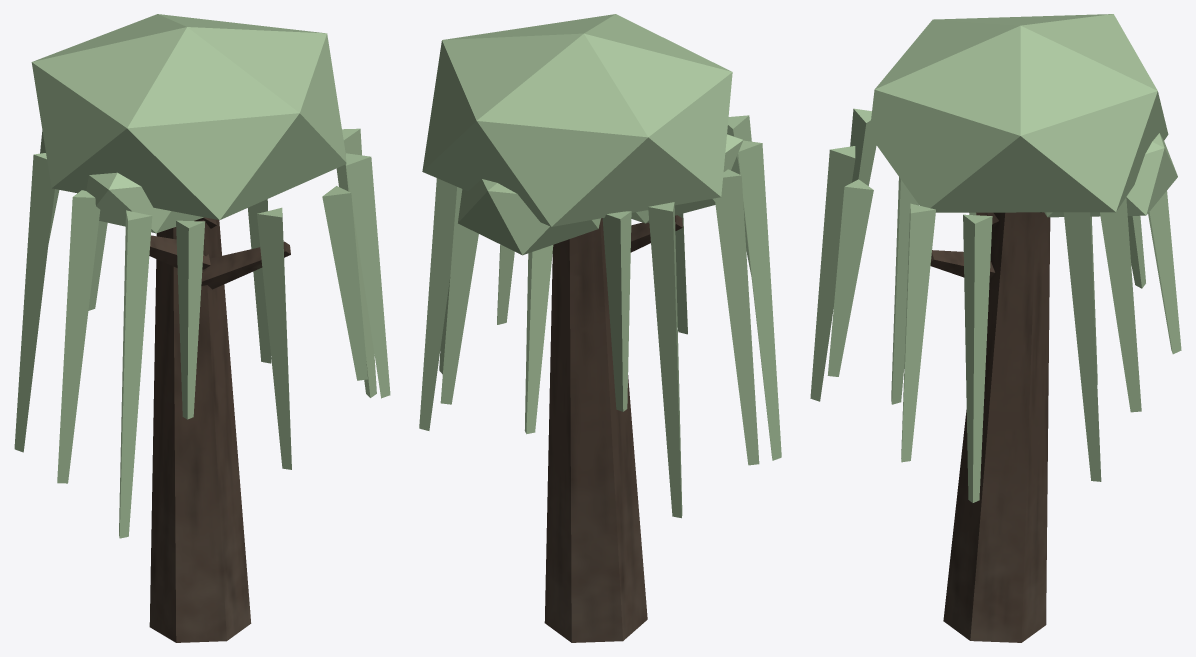
Rendered from arv_salgueiro_1.glb.
3 views of the same model, side by side, from view 1: azimuth 30°, elevation 25°; view 2: azimuth 150°, elevation 25°; view 3: azimuth 270°, elevation 25° (orthographic).
Visible parts, largest first — view 1: arv_salgueiro_1; view 2: arv_salgueiro_1; view 3: arv_salgueiro_1.
Boxes of the visible parts, x1,y1,x2,y2 form: arv_salgueiro_1: (14, 14, 390, 642); arv_salgueiro_1: (419, 14, 781, 642); arv_salgueiro_1: (810, 14, 1181, 642).
Size of the model in its own units: 0.8671 by 1.54 by 0.8651.
2 materials, 1 textured.
